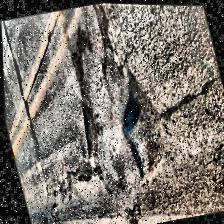pothole: (108, 80, 172, 184), (69, 98, 107, 168), (61, 20, 100, 85)
